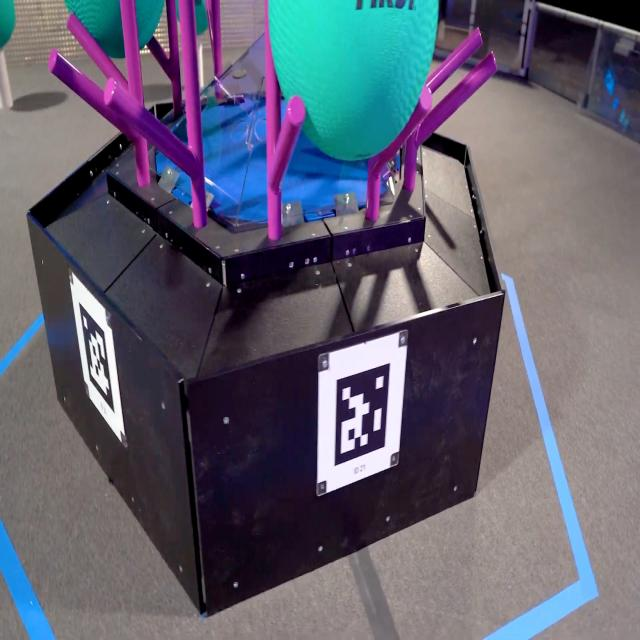Algae: (266, 0, 440, 163), (64, 0, 165, 59), (0, 0, 16, 48)
Coral: (0, 49, 14, 112)
